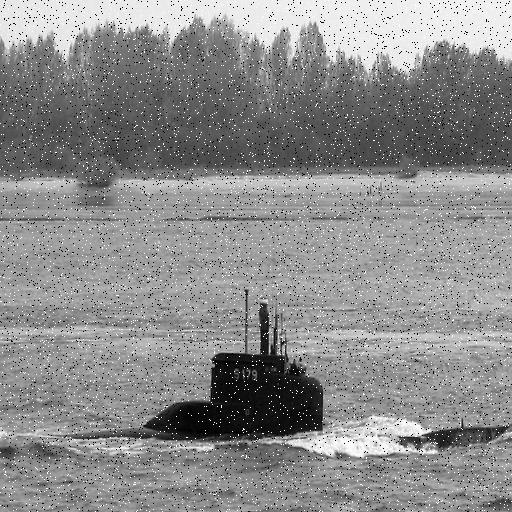submarine: (54, 336, 325, 447)
